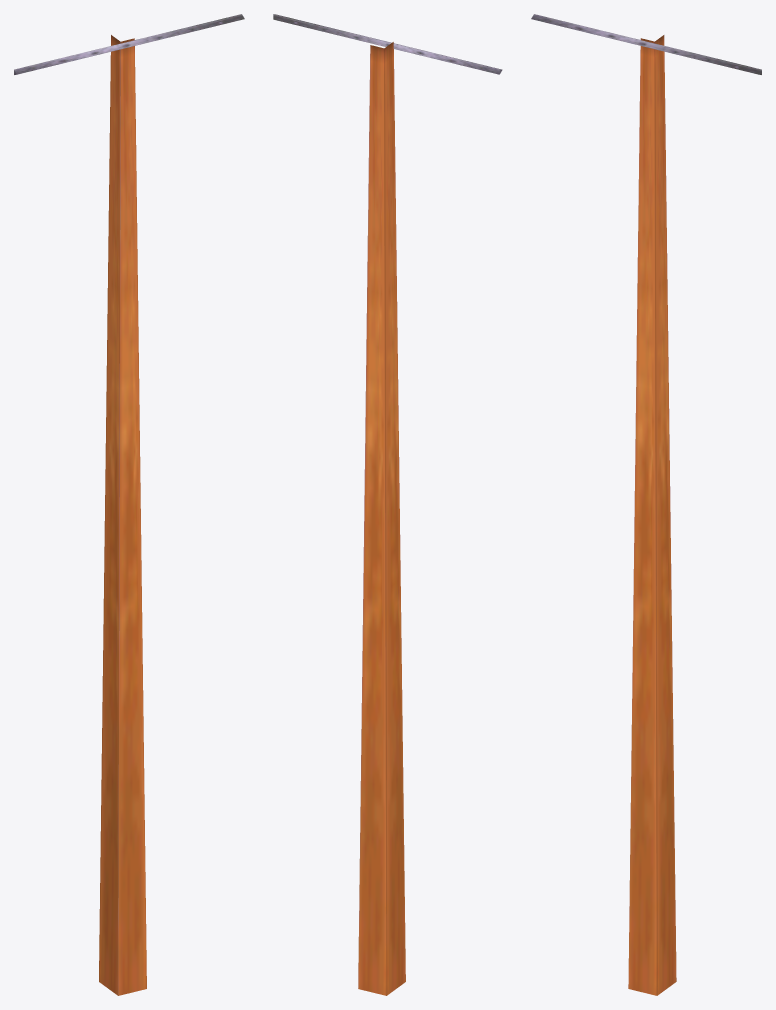
The model's file is ELEC_POLE09.glb.
The picture shows the model from 3 angles, left to right: view 1: azimuth 30°, elevation 25°; view 2: azimuth 150°, elevation 25°; view 3: azimuth 330°, elevation 25°; orthographic projection.
Parts seen in each view (by area): view 1: ELEC_POLE09; view 2: ELEC_POLE09; view 3: ELEC_POLE09.
Boxes of the visible parts, <box> form: ELEC_POLE09: <box>14,14,244,995</box>; ELEC_POLE09: <box>273,14,502,995</box>; ELEC_POLE09: <box>531,14,761,995</box>.
Bounding box in the file's own units: 345 × 1372 × 50.76.
Materials: 1 (1 with a texture image).
